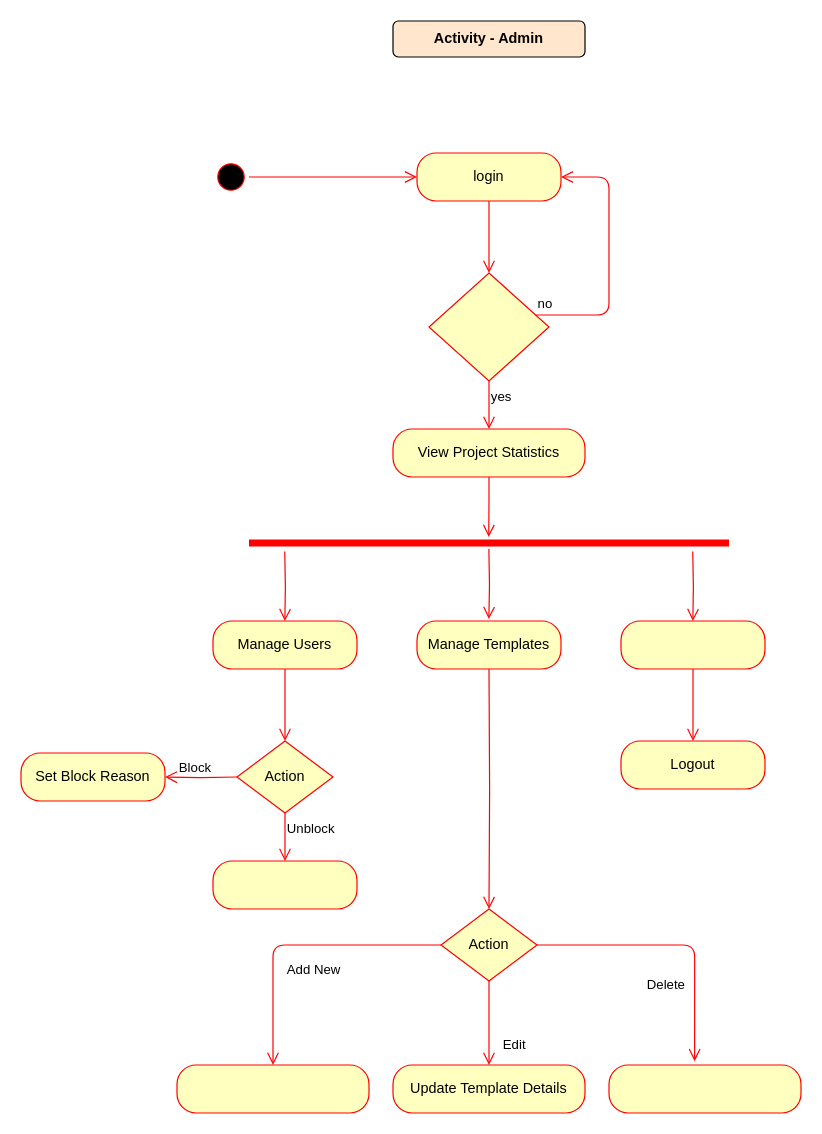
This 822x1134 diagram has some shape labels left out. The shapes that lost their labels are listed below. From the top down, each one's centre as x and y in pixels, then its label:
At point 488,326: "Check Credentials?".
At point 692,644: "View User Feedback".
At point 284,884: "Update User Status".
At point 272,1088: "Upload HTML/CSS/JSON".
At point 704,1088: "Set Inactive".
